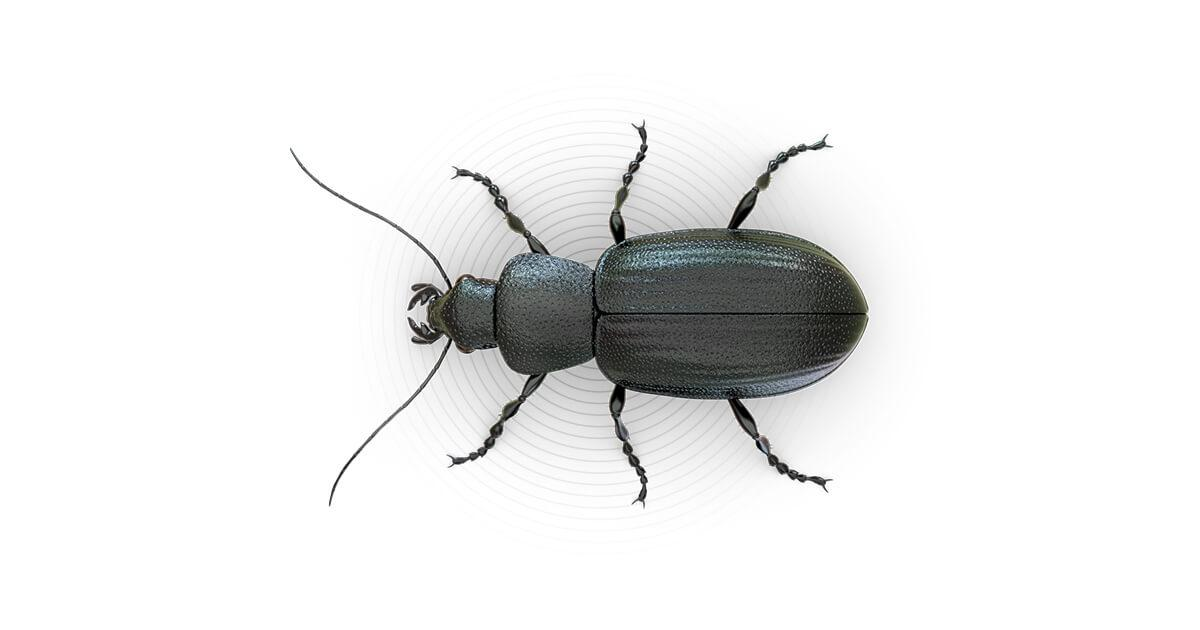Insects: (280, 106, 883, 516)
